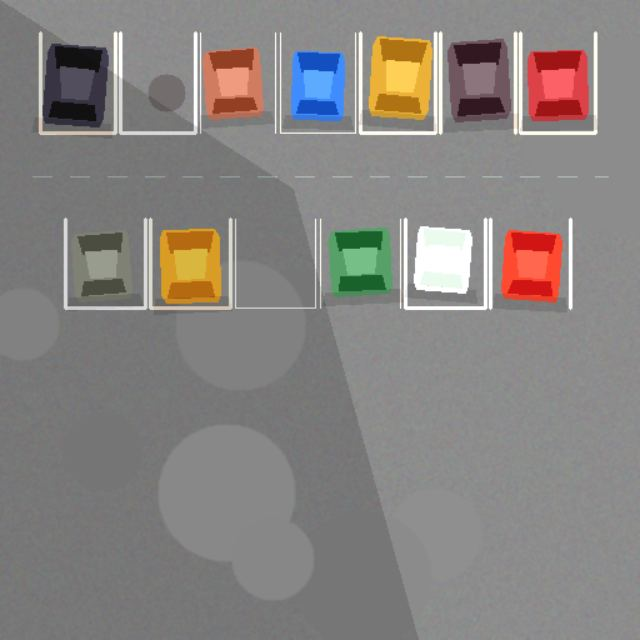space-empty: (120, 32, 195, 132), (235, 219, 315, 308)
space-occupied: (40, 32, 115, 132), (200, 32, 275, 132), (280, 32, 355, 132), (360, 32, 435, 132), (440, 32, 515, 132), (520, 32, 595, 132), (65, 219, 145, 308), (150, 219, 230, 308), (320, 219, 400, 308), (405, 219, 485, 308), (490, 219, 570, 308)
